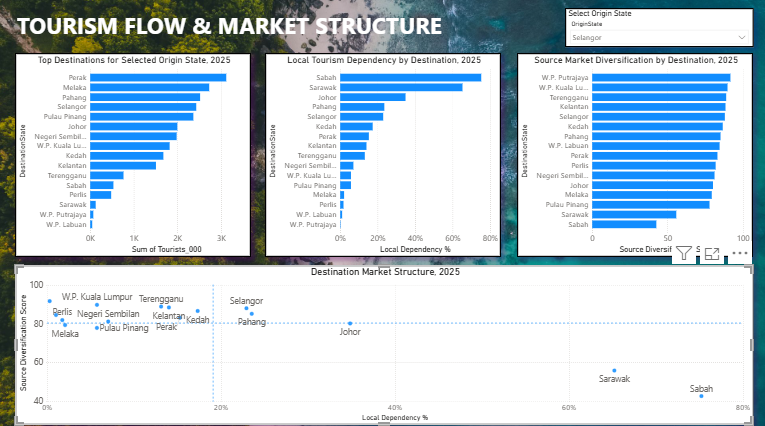

This screenshot's page, from the dashboard's own definition file:
{"tool":"powerbi","page":{"name":"04 Tourism Flow & Market Structure","canvas":[1920,1080],"ordinal":3},"visuals":[{"type":"slicer","title":"Select Origin State","fields":{"Values":["Tourism_Flow.OriginState"]},"box":[1415,22.5,471.7,98.3],"z":0},{"type":"barChart","title":"Top Destinations for Selected Origin State, 2025","fields":{"Category":["Tourism_Flow.DestinationState"],"Y":["Sum(Tourism_Flow.Tourists_000)"]},"box":[40,136,590,510],"z":1000},{"type":"barChart","title":"Local Tourism Dependency by Destination, 2025","fields":{"Category":["Tourism_Flow.DestinationState"],"Y":["Tourism_Flow.Local Dependency %"]},"box":[666,136,590,510],"z":2000},{"type":"barChart","title":"Source Market Diversification by Destination, 2025","fields":{"Category":["Tourism_Flow.DestinationState"],"Y":["Tourism_Flow.Source Diversification Score"]},"box":[1296,136,590,510],"z":3000},{"type":"scatterChart","title":"Destination Market Structure, 2025","fields":{"Category":["Tourism_Flow.DestinationState"],"X":["Tourism_Flow.Local Dependency %"],"Y":["Tourism_Flow.Source Diversification Score"]},"box":[40,664,1846,400],"z":4000},{"type":"textbox","box":[40,22.5,1130,97.5],"z":5000}]}

Visuals, with their boxes in screenshot pixels (x1, y1, x2, y2), scaled from the page's 1920x1080 canvas onto the 765x426 screenshot:
"Select Origin State" slicer: 564,9,752,48
"Top Destinations for Selected Origin State, 2025" barChart: 16,54,251,255
"Local Tourism Dependency by Destination, 2025" barChart: 265,54,500,255
"Source Market Diversification by Destination, 2025" barChart: 516,54,751,255
"Destination Market Structure, 2025" scatterChart: 16,262,751,420
textbox: 16,9,466,47
